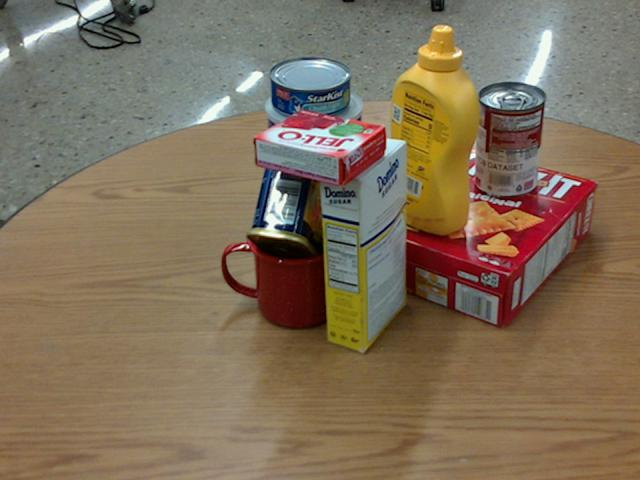cracker_box: (362, 145, 595, 327)
gelatin_box: (252, 108, 387, 187)
large_marker: (390, 107, 408, 207)
master_chef_can: (266, 83, 363, 239)
mug: (218, 210, 341, 328)
mustard_bottle: (383, 25, 479, 234)
potted_meat_can: (246, 146, 336, 266)
sugar_box: (317, 135, 405, 351)
tomato_soup_can: (473, 81, 544, 196)
tuna_fish_can: (268, 56, 350, 117)
